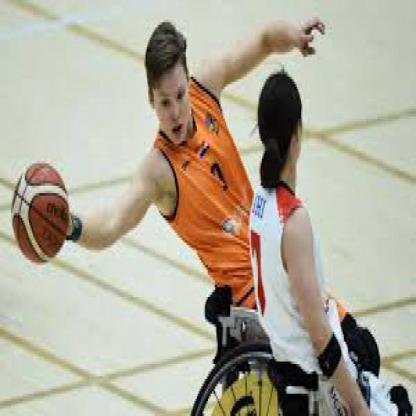basketball: (10, 161, 70, 265)
